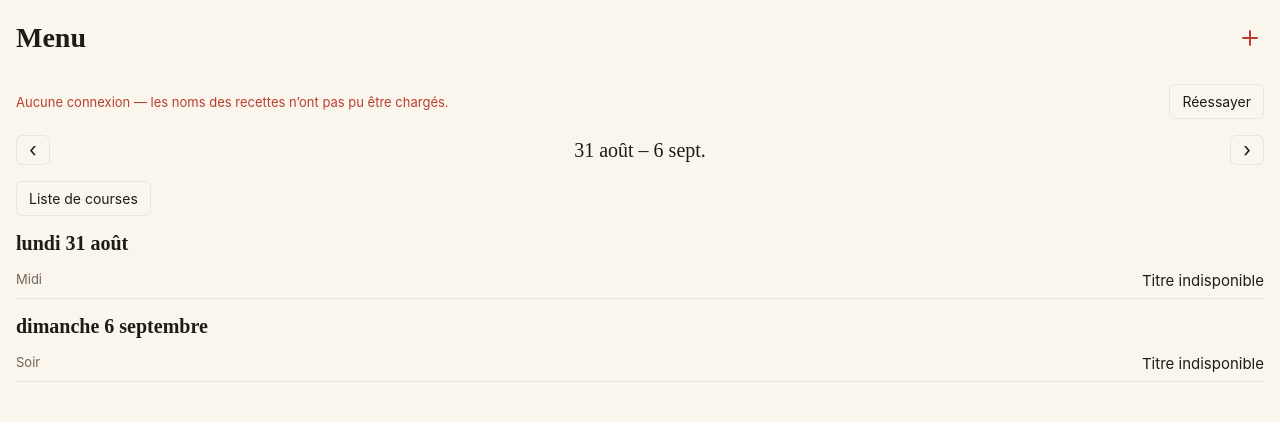
Scenario: MenuContainer — consultation des menus enregistrés › des titres hors ligne laissent le menu à l’écran, disent pourquoi ses créneaux n’ont plus de nom, et « Réessayer » rouvre LEUR canal en laissant celui des menus
expect the text "31 août – 6 sept." is shown: met, box [574,138,706,162]
expect the text "Titre indisponible" is shown 2 times: met, box [1142,271,1264,290]; [1142,354,1264,373]
Step 1. Click the button "Réessayer" → (1217, 102), box [1169,84,1264,119]
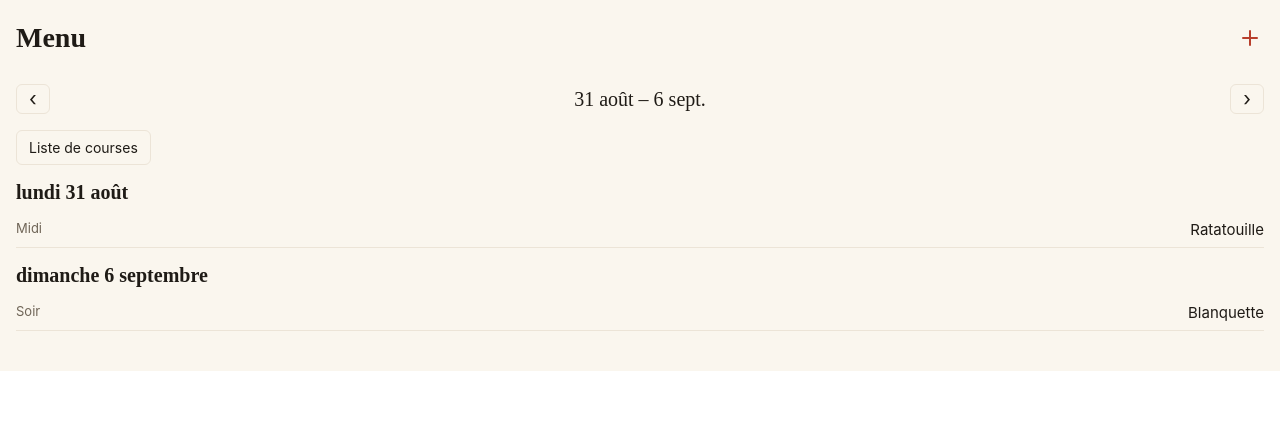
expect the text "31 août – 6 sept." is shown: met, box [574,88,706,110]
expect the link "Ratatouille" is shown: met, box [1190,220,1264,239]
expect the text "Titre indisponible" is gone: met
